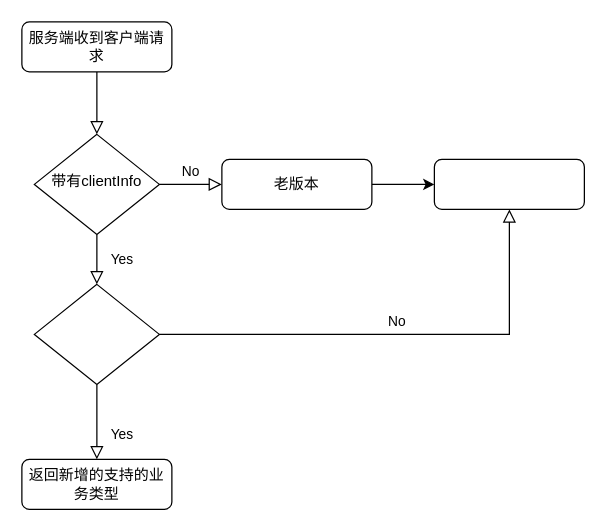
Some shapes in this 606 by 531 pixel diagram are drawn without their labels. Here are the shapes that lost their labels. From the top down, the centre of each, then its label:
At point 508,183: "不返回不支持的业务类型".
At point 96,333: "版本号大于客户端提供版本号".
